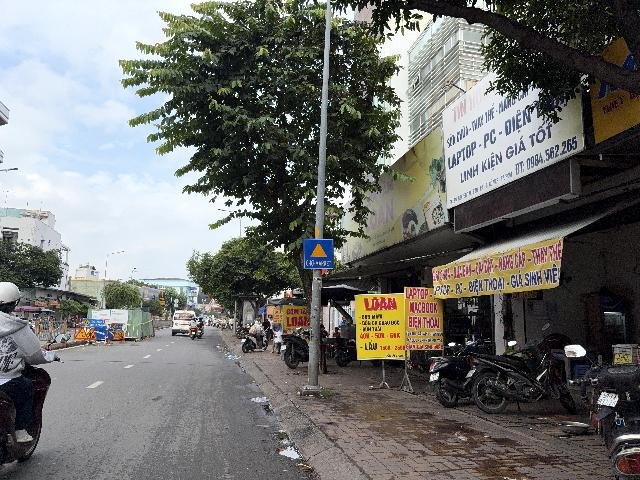khu-vuc-cho-phia-truoc: (304, 238, 333, 269)
